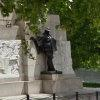Statue: (31, 25, 69, 76)
